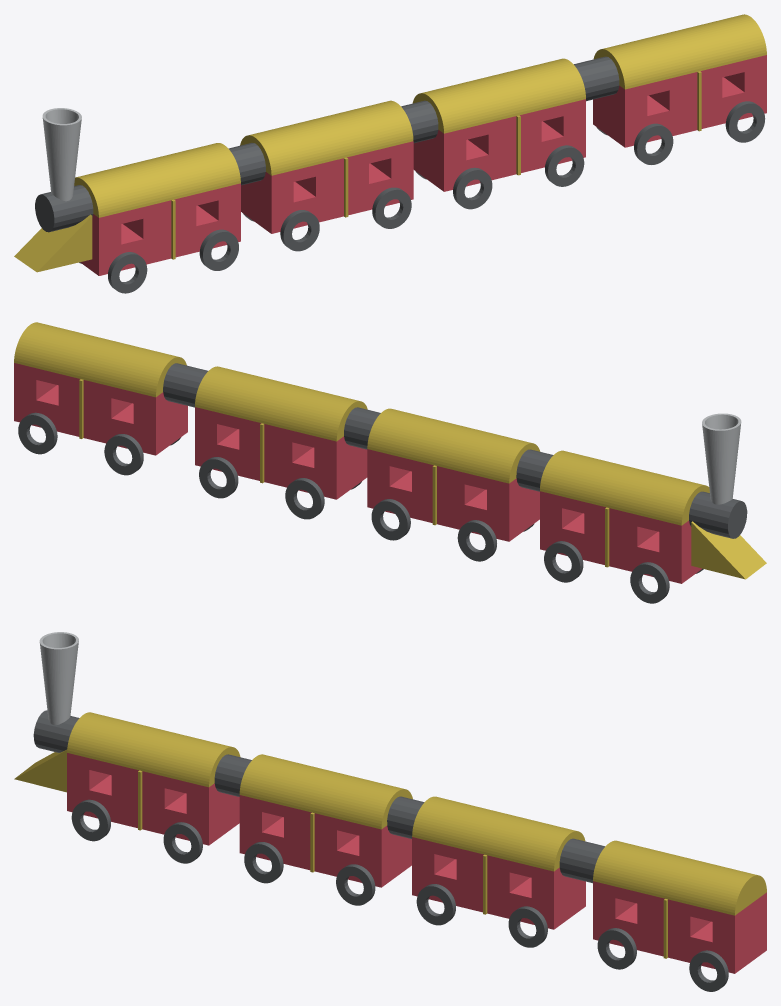
The model's file is Project150.glb.
3 renders of one model, top to bottom at view 1: azimuth 30°, elevation 25°; view 2: azimuth 150°, elevation 25°; view 3: azimuth 330°, elevation 25°, orthographic.
Parts seen in each view (by area): view 1: Mesh_Mesh_head_geo.001_lambert2SG.001; view 2: Mesh_Mesh_head_geo.001_lambert2SG.001; view 3: Mesh_Mesh_head_geo.001_lambert2SG.001.
Part boxes in pixels (<box>): Mesh_Mesh_head_geo.001_lambert2SG.001: <box>14,14,766,293</box>; Mesh_Mesh_head_geo.001_lambert2SG.001: <box>14,322,766,603</box>; Mesh_Mesh_head_geo.001_lambert2SG.001: <box>14,632,766,991</box>.
Bounding box in the file's own units: 261 × 60 × 27.
